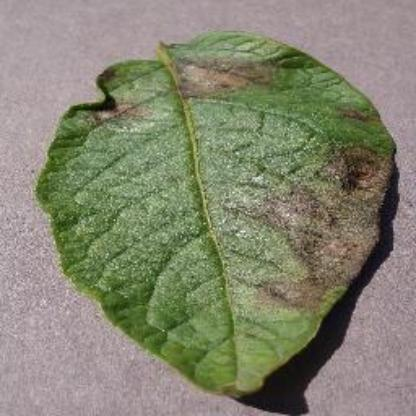Late-Blight: (35, 31, 400, 397)
